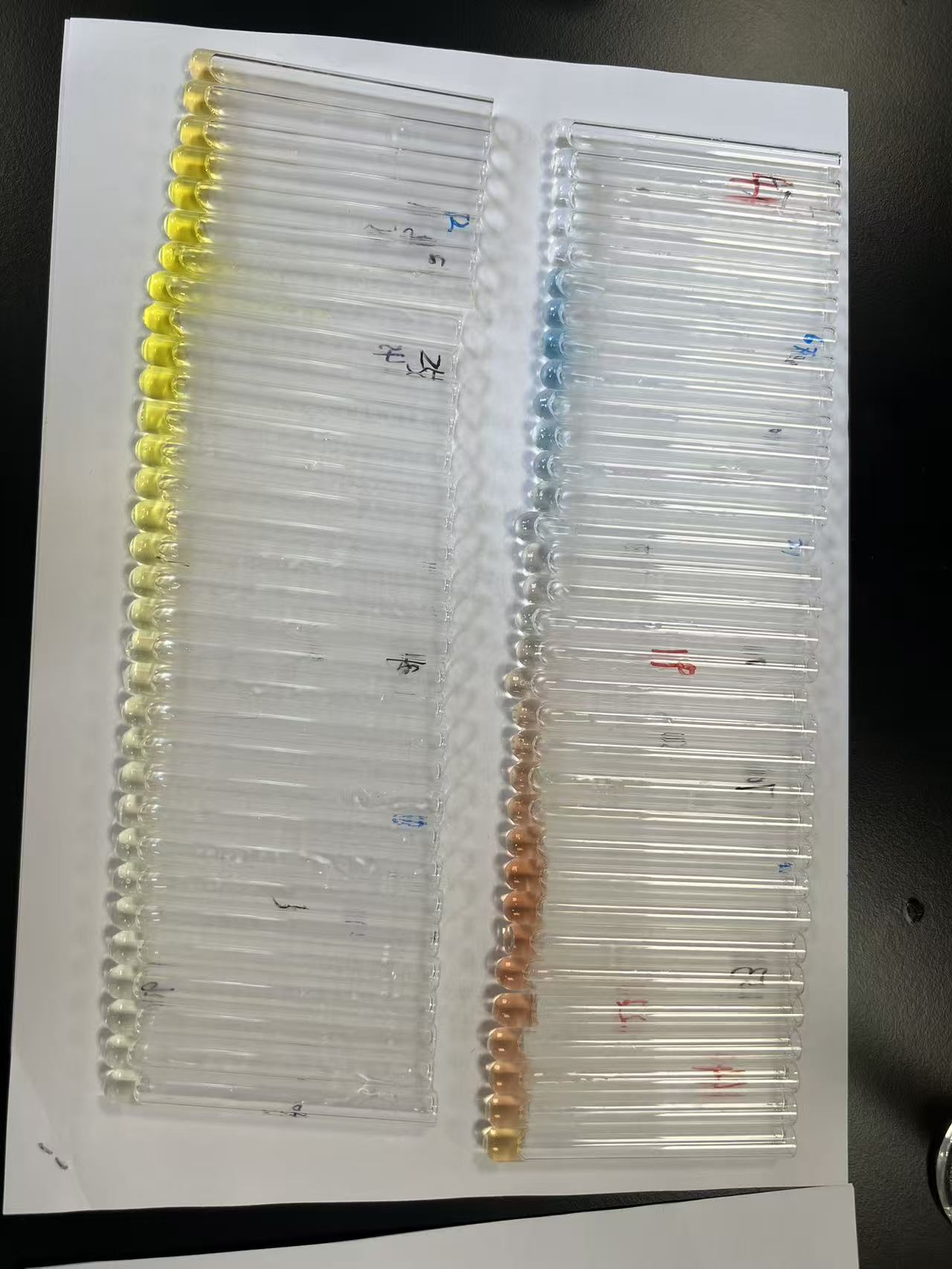drop: (130, 495, 182, 536), (112, 759, 168, 796), (105, 960, 152, 1002), (110, 828, 163, 865), (104, 999, 157, 1036), (100, 1035, 153, 1072), (99, 1068, 152, 1105), (117, 725, 167, 763), (135, 396, 181, 437), (119, 659, 166, 698), (168, 144, 217, 181), (138, 332, 185, 370), (161, 208, 209, 245), (136, 364, 184, 401), (112, 860, 157, 899), (166, 175, 212, 213), (120, 695, 168, 731), (122, 630, 172, 664), (125, 564, 172, 600), (134, 432, 177, 471), (131, 529, 175, 567), (123, 596, 168, 633), (111, 895, 153, 934), (131, 466, 177, 501), (108, 932, 155, 966), (483, 1129, 531, 1162), (141, 301, 186, 336), (115, 792, 157, 829), (154, 242, 200, 275), (503, 858, 549, 891), (486, 1095, 532, 1128), (494, 957, 537, 992), (492, 992, 536, 1025), (176, 115, 217, 149), (181, 79, 215, 119), (503, 922, 543, 956), (489, 1061, 530, 1094), (501, 892, 546, 922), (544, 205, 581, 241), (488, 1026, 527, 1060), (146, 270, 183, 305), (548, 147, 585, 182), (506, 826, 545, 859), (522, 572, 559, 606), (521, 542, 559, 575), (546, 178, 585, 210), (188, 47, 217, 86), (516, 635, 550, 668), (505, 667, 540, 699), (551, 117, 584, 150), (512, 697, 545, 730), (507, 793, 540, 826), (545, 236, 578, 268), (544, 269, 577, 301), (529, 482, 560, 516), (531, 421, 566, 451), (513, 605, 545, 637), (542, 330, 574, 361), (511, 730, 542, 760), (511, 760, 537, 795), (539, 361, 567, 391), (514, 514, 545, 541), (541, 299, 568, 329), (534, 391, 560, 420), (534, 451, 557, 482)
